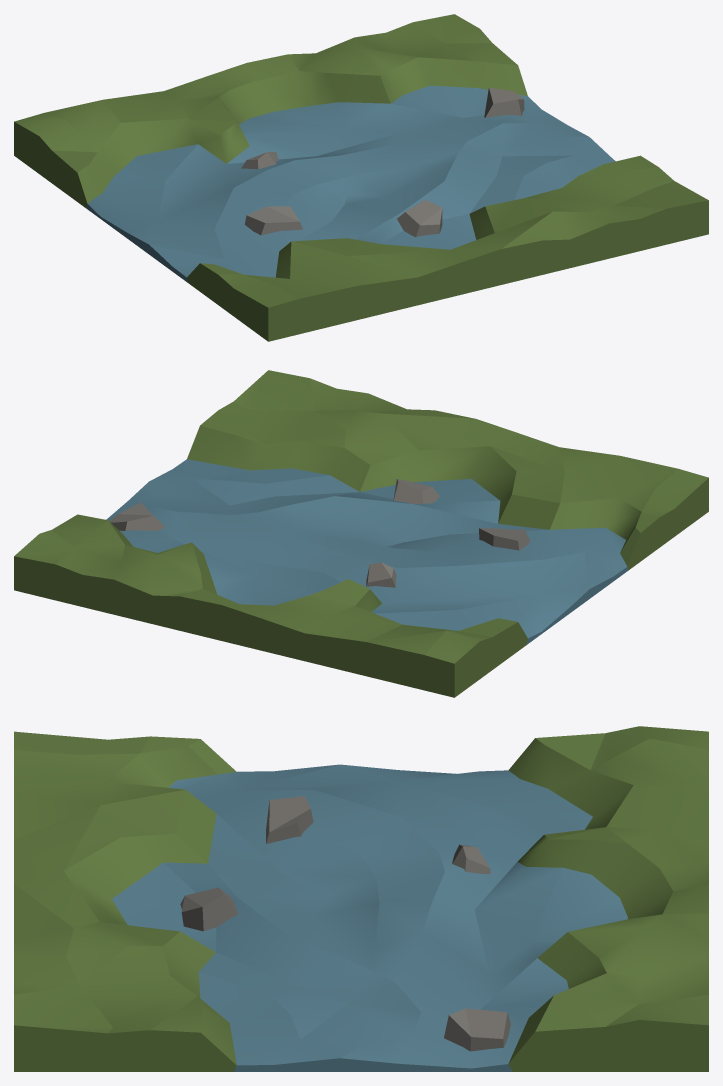
Rendered from Water_River_H.glb.
The picture shows the model from 3 angles, top to bottom: view 1: azimuth 30°, elevation 25°; view 2: azimuth 150°, elevation 25°; view 3: azimuth 270°, elevation 25°; orthographic projection. The views are drawn at different scales.
Visible parts, largest first — view 1: Water_River_H; view 2: Water_River_H; view 3: Water_River_H.
Part boxes in pixels (<box>): Water_River_H: <box>14,14,708,341</box>; Water_River_H: <box>14,370,708,697</box>; Water_River_H: <box>14,726,708,1071</box>.
Bounding box in the file's own units: 1.47 × 0.1508 × 1.47.
